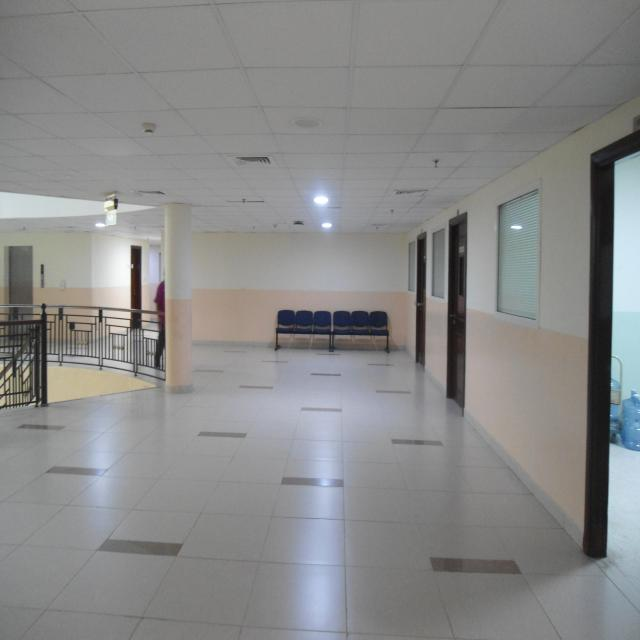bench: (272, 304, 395, 353)
door: (585, 147, 640, 614), (445, 222, 466, 396), (131, 244, 145, 351), (418, 230, 426, 371)
exitLight: (93, 197, 121, 218)
lift: (0, 241, 41, 356)
liftbutton: (37, 260, 46, 294)
light: (314, 196, 329, 208), (322, 222, 332, 231)
pillar: (160, 199, 195, 388)
railing: (1, 300, 184, 386), (0, 303, 48, 405)
wall: (468, 129, 590, 512), (195, 236, 405, 350), (45, 232, 128, 332)
window: (495, 194, 553, 317), (427, 230, 446, 294), (406, 242, 418, 291)
